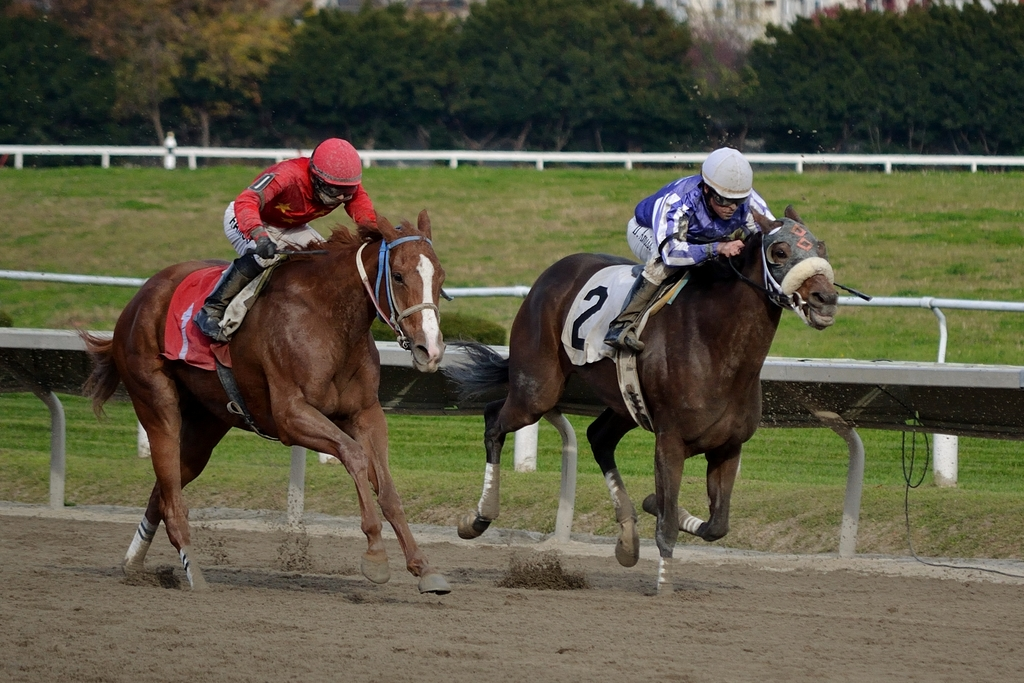Person: (191, 134, 377, 345), (602, 147, 785, 347)
